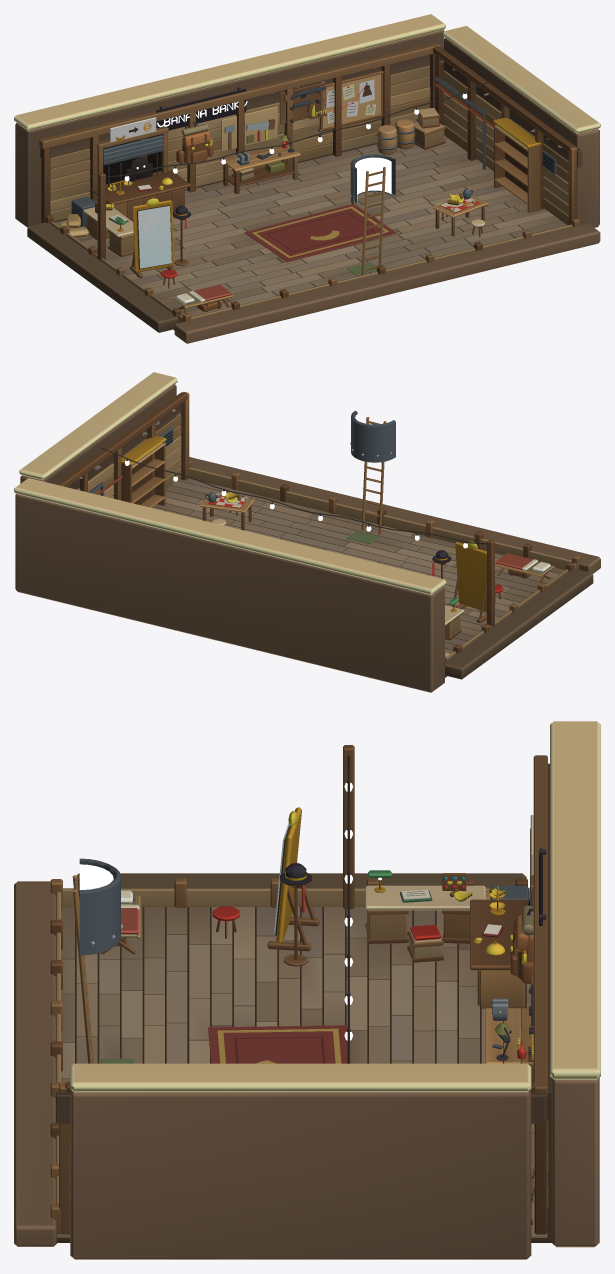
Rendered from bunker.glb.
3 renders of one model, top to bottom at view 1: azimuth 30°, elevation 25°; view 2: azimuth 150°, elevation 25°; view 3: azimuth 270°, elevation 25°, orthographic. The views are drawn at different scales.
Parts seen in each view (by area): view 1: bunker_room__matte, bunker_counter__matte, bunker_workbench__matte, bunker_shelf__matte, bunker_pinboard__matte, bunker_ladder__matte, bunker_desk__matte, bunker_mirror__glass, bunker_mirror__matte, bunker_lights__matte, bunker_fx_mag__matte, bunker_fx_heart__matte (+4 smaller); view 2: bunker_room__matte, bunker_ladder__matte, bunker_shelf__matte, bunker_mirror__matte, bunker_lights__matte, bunker_fx_heart__matte, bunker_cot__matte, bunker_desk__matte; view 3: bunker_room__matte, bunker_desk__matte, bunker_counter__matte, bunker_ladder__matte, bunker_mirror__matte, bunker_workbench__matte, bunker_lights__matte, bunker_fx_pack__matte, bunker_cot__matte, bunker_ladder__emissive.
Part boxes in pixels (x1,y1,x2,y2): bunker_room__matte: [14, 14, 600, 343]; bunker_counter__matte: [92, 117, 190, 219]; bunker_workbench__matte: [220, 106, 300, 194]; bunker_shelf__matte: [493, 118, 540, 212]; bunker_pinboard__matte: [318, 70, 383, 131]; bunker_ladder__matte: [346, 154, 395, 275]; bunker_desk__matte: [71, 196, 134, 256]; bunker_mirror__glass: [138, 205, 171, 268]; bunker_mirror__matte: [130, 198, 191, 288]; bunker_lights__matte: [97, 80, 491, 260]; bunker_fx_mag__matte: [279, 82, 327, 124]; bunker_fx_heart__matte: [433, 188, 487, 237]; bunker_room__matte: [14, 372, 600, 692]; bunker_ladder__matte: [347, 411, 395, 544]; bunker_shelf__matte: [121, 435, 166, 507]; bunker_mirror__matte: [432, 541, 503, 622]; bunker_lights__matte: [100, 447, 494, 627]; bunker_fx_heart__matte: [200, 491, 254, 530]; bunker_cot__matte: [495, 553, 554, 582]; bunker_desk__matte: [445, 597, 464, 640]; bunker_room__matte: [14, 721, 600, 1259]; bunker_desk__matte: [365, 870, 528, 962]; bunker_counter__matte: [470, 814, 533, 1008]; bunker_ladder__matte: [72, 858, 134, 1063]; bunker_mirror__matte: [212, 807, 319, 966]; bunker_workbench__matte: [485, 998, 533, 1081]; bunker_lights__matte: [343, 745, 354, 1063]; bunker_fx_pack__matte: [510, 905, 533, 983]; bunker_cot__matte: [75, 890, 140, 954]; bunker_ladder__emissive: [79, 864, 113, 889].
Size of the model in its own units: 18.22 by 4.61 by 12.22.
